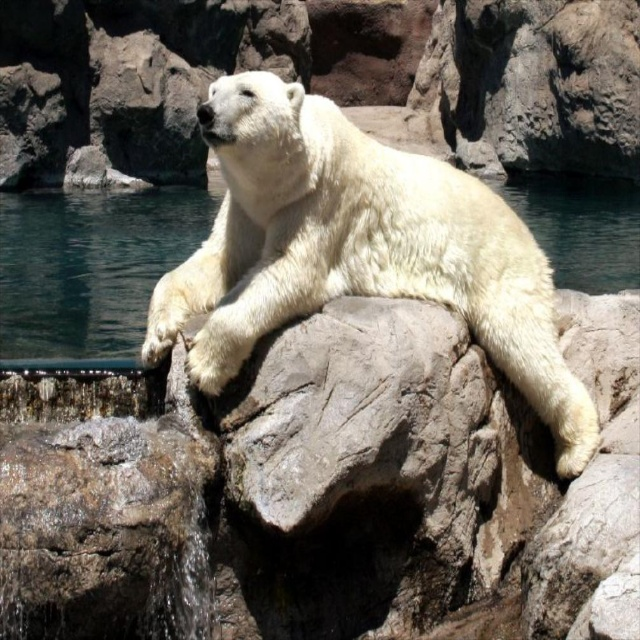Polar bear: (142, 70, 599, 472)
